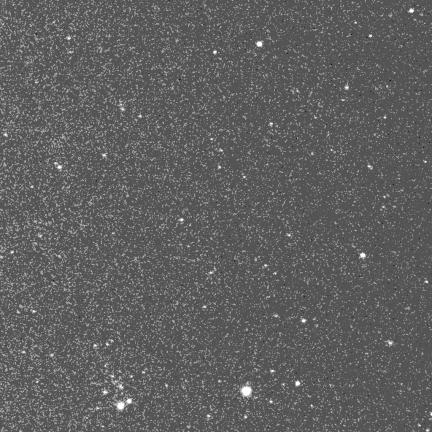blob: (242, 386, 252, 397), (117, 403, 125, 411), (409, 9, 415, 14), (360, 253, 366, 258), (127, 399, 133, 404), (257, 41, 262, 47), (295, 381, 300, 386), (66, 36, 71, 40), (345, 85, 349, 90), (213, 50, 217, 54), (4, 133, 8, 137), (302, 319, 306, 323), (103, 390, 107, 394), (179, 218, 184, 221), (369, 35, 373, 38), (244, 415, 247, 419), (207, 414, 210, 418), (270, 122, 273, 126), (425, 280, 428, 283), (139, 115, 142, 118), (271, 370, 275, 372)
